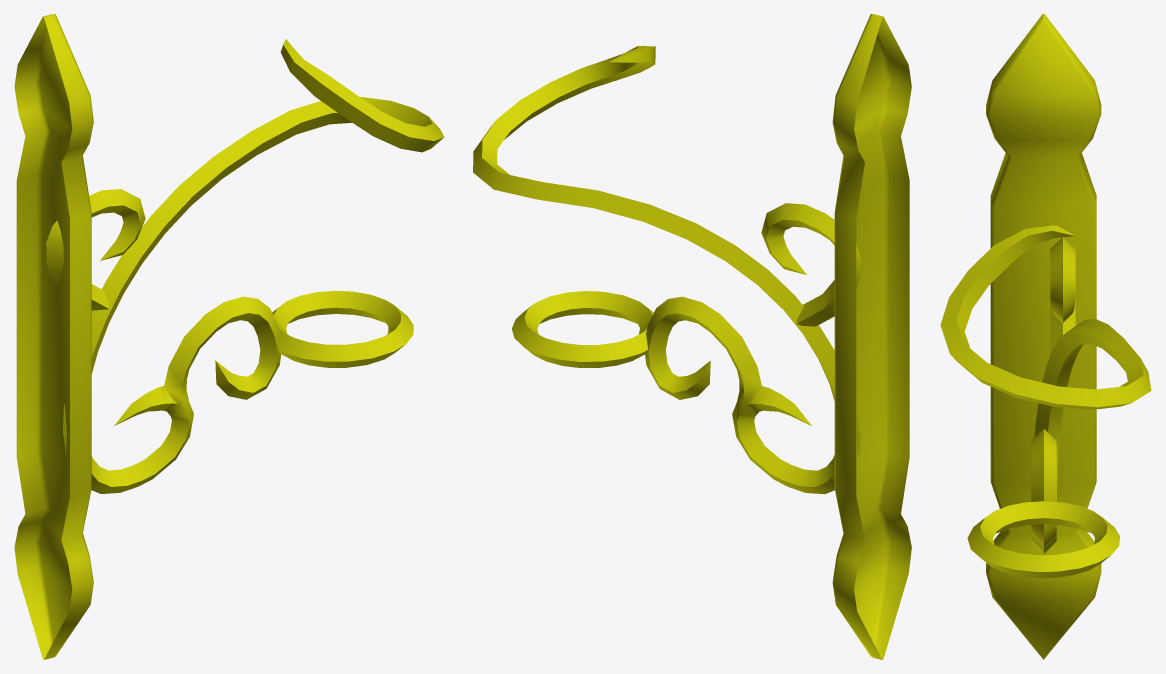
Rendered from dfk_wall_lamp_01.fbx.
The picture shows the model from 3 angles, left to right: view 1: azimuth 30°, elevation 25°; view 2: azimuth 150°, elevation 25°; view 3: azimuth 270°, elevation 25°; orthographic projection.
Parts seen in each view (by area): view 1: WallLamp01; view 2: WallLamp01; view 3: WallLamp01.
Boxes of the visible parts, x1,y1,x2,y2 form: WallLamp01: (14, 14, 444, 659); WallLamp01: (473, 14, 911, 659); WallLamp01: (940, 14, 1151, 659).
Bounding box in the file's own units: 0.3866 × 0.6125 × 0.1831.
